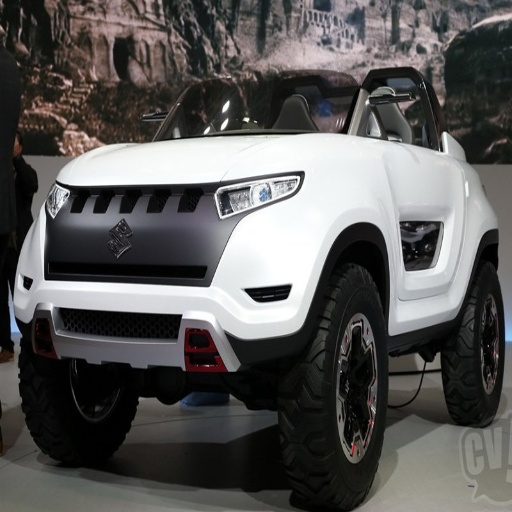trunk: (304, 140, 477, 288)
